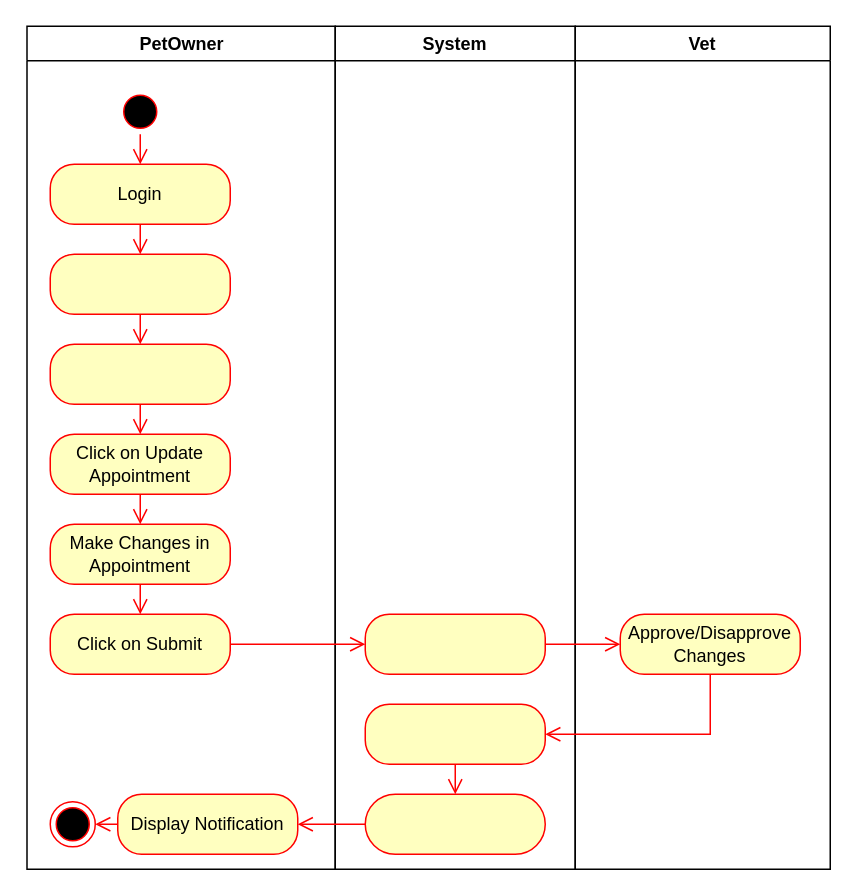
This 857x896 diagram has some shape labels left out. Each missing label, with the centre of its shape:
Save Changes: point (454, 733)
Select Appointment: point (139, 373)
Select Appointments from Menu: point (139, 283)
Send Approval Request to Vet: point (454, 643)
Send Notification to User: point (454, 823)
